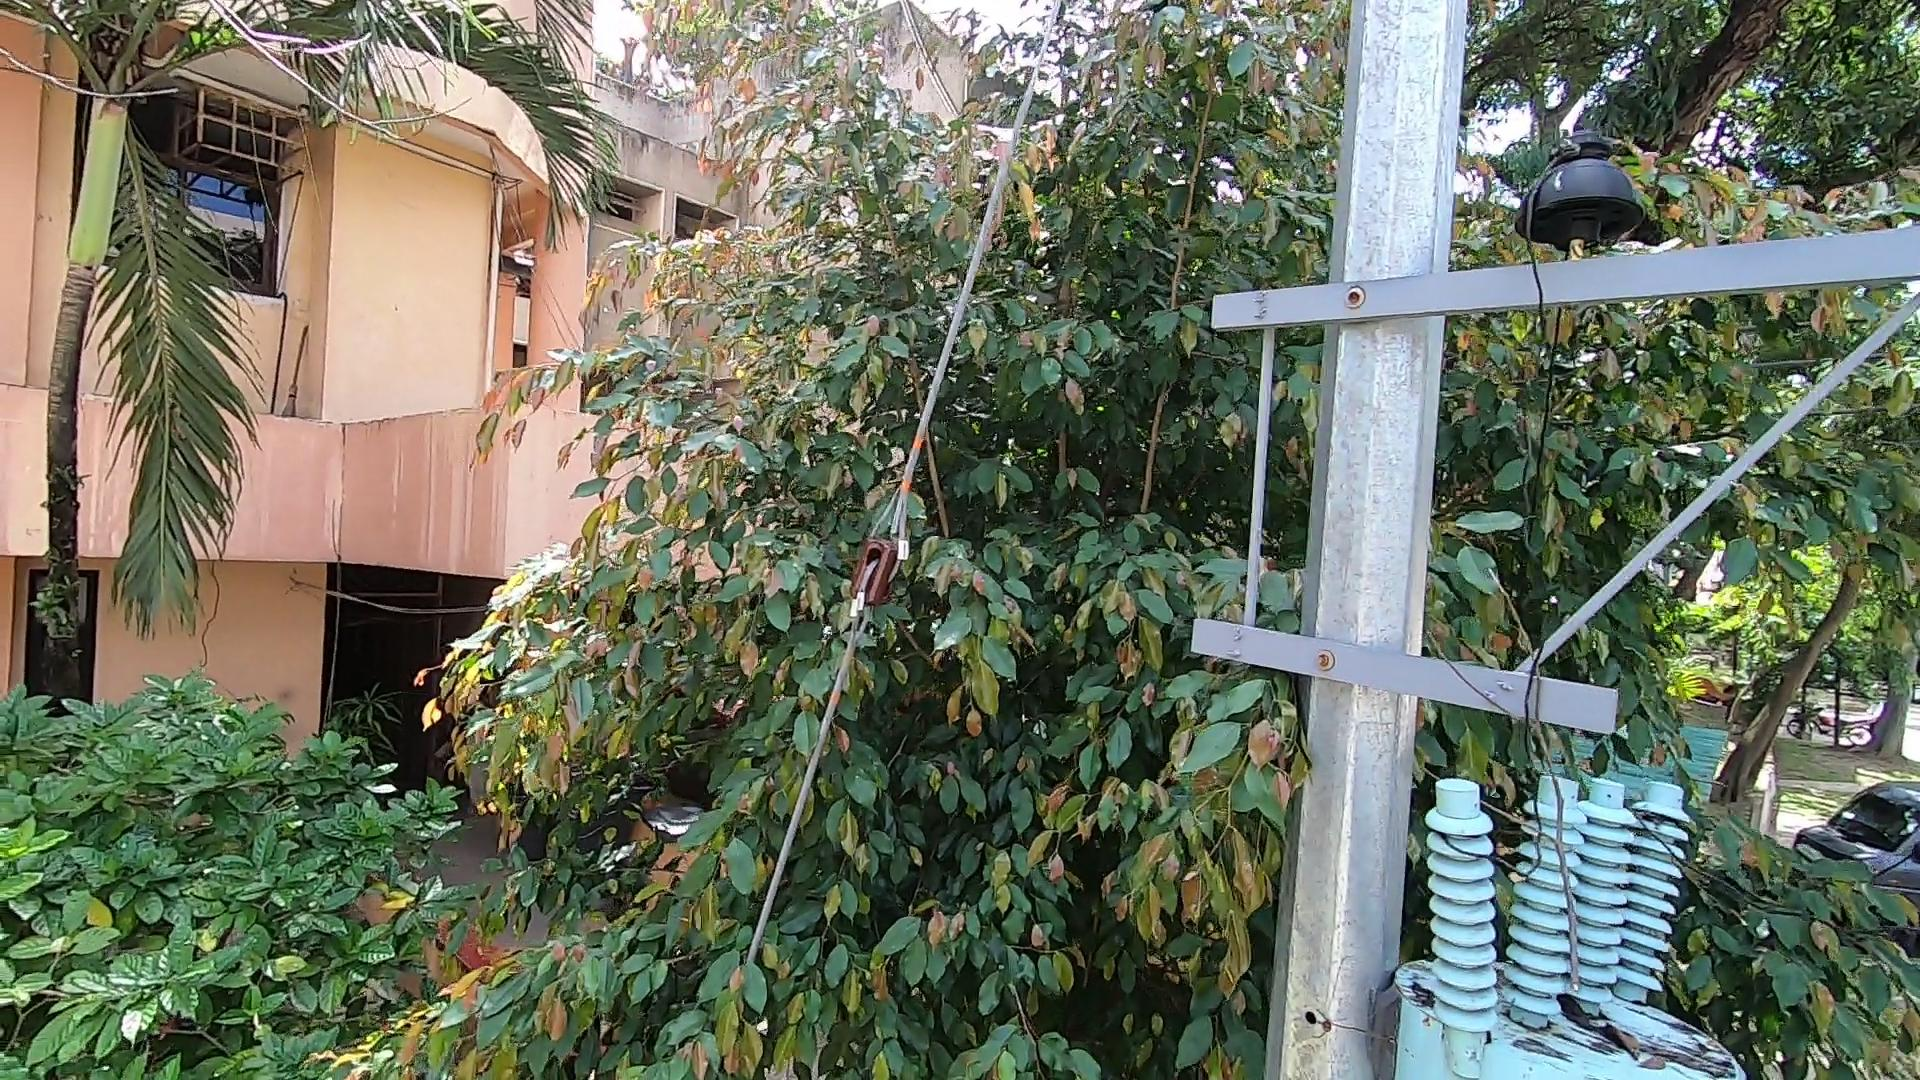leaf: (1565, 977, 1644, 1058)
tree branch: (1400, 553, 1596, 1000)
